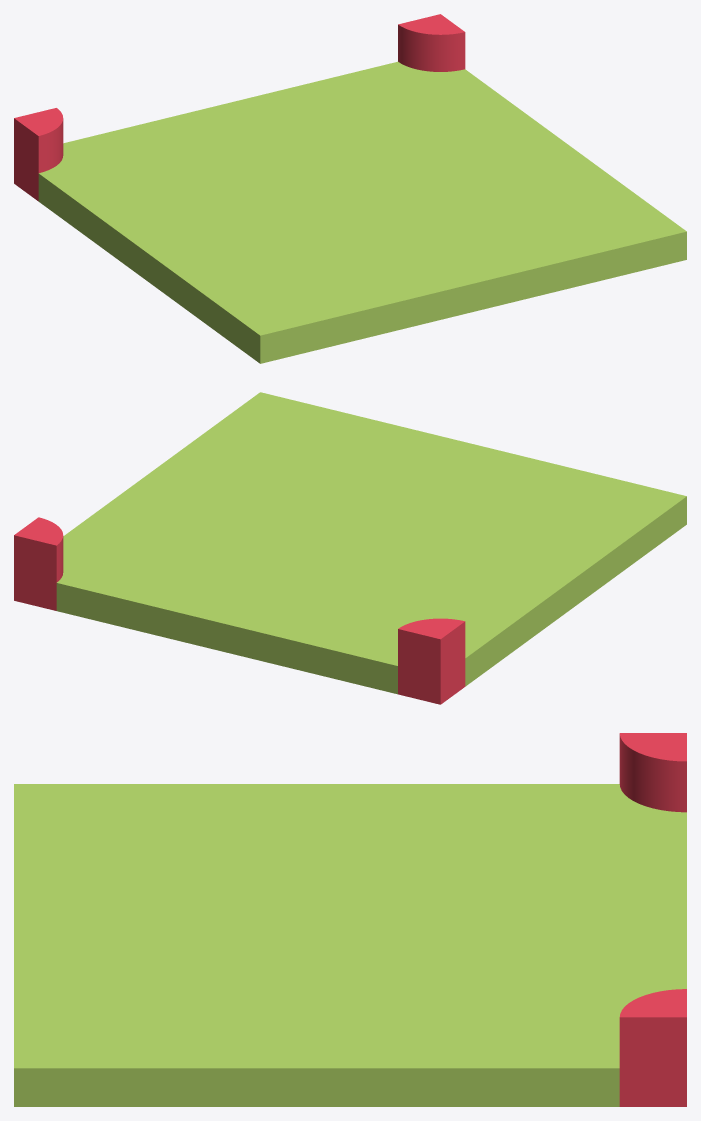
File: wallsToOpen.fbx
The picture shows the model from 3 angles, top to bottom: view 1: azimuth 30°, elevation 25°; view 2: azimuth 150°, elevation 25°; view 3: azimuth 270°, elevation 25°; orthographic projection. The views are drawn at different scales.
Parts seen in each view (by area): view 1: wallsToOpen; view 2: wallsToOpen; view 3: wallsToOpen.
Part boxes in pixels (<box>): wallsToOpen: <box>14,14,686,363</box>; wallsToOpen: <box>14,392,686,704</box>; wallsToOpen: <box>14,733,686,1106</box>.
Size of the model in its own units: 10 by 1.47 by 10.
